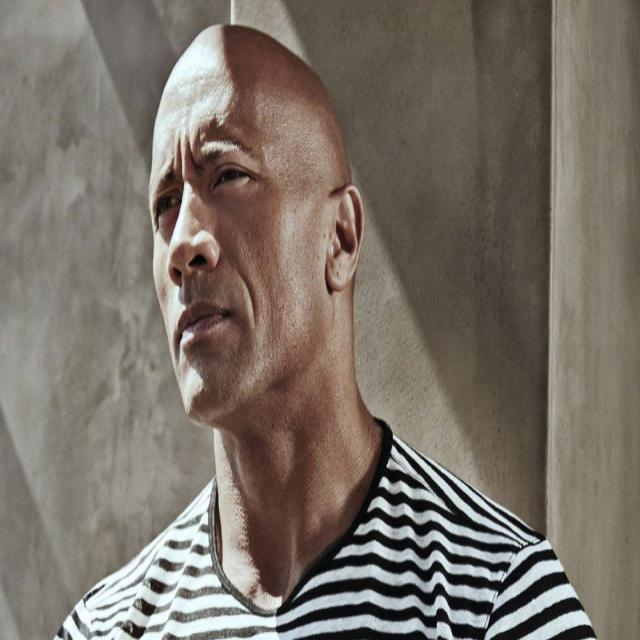mobile_phonerotation: (52, 20, 598, 637)
